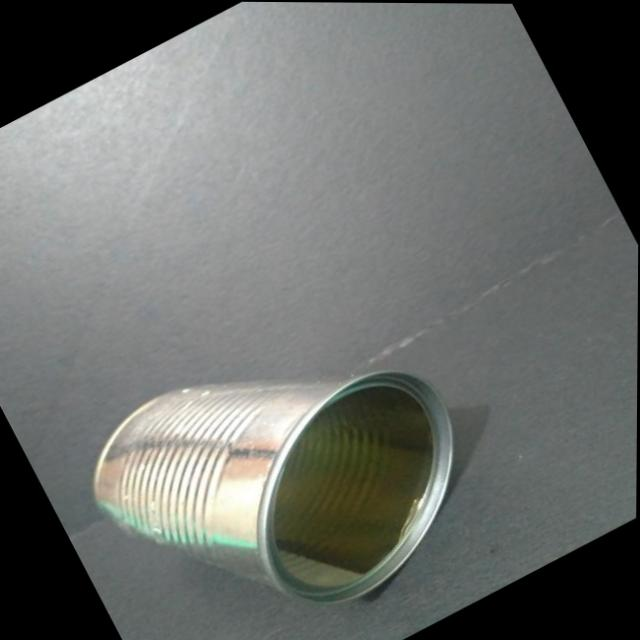metal: (59, 268, 514, 640)
